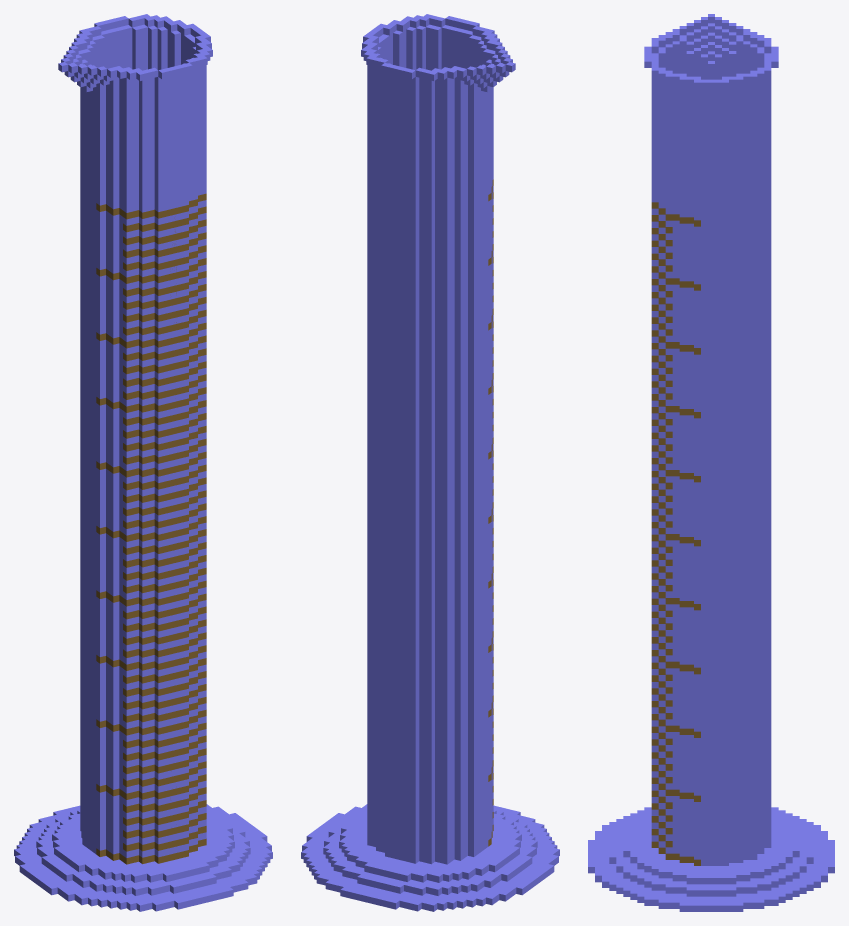
The model's file is Measuring cylinder1-1-1.fbx.
3 renders of one model, left to right at view 1: azimuth 30°, elevation 25°; view 2: azimuth 150°, elevation 25°; view 3: azimuth 270°, elevation 25°, orthographic.
Parts seen in each view (by area): view 1: Measuring cylinder1-1-1.000, Measuring cylinder1-1-1.001; view 2: Measuring cylinder1-1-1.000, Measuring cylinder1-1-1.001; view 3: Measuring cylinder1-1-1.000, Measuring cylinder1-1-1.001.
Boxes of the visible parts, x1,y1,x2,y2 form: Measuring cylinder1-1-1.000: (14, 14, 272, 911); Measuring cylinder1-1-1.001: (96, 193, 206, 864); Measuring cylinder1-1-1.000: (301, 14, 559, 911); Measuring cylinder1-1-1.001: (488, 179, 493, 846); Measuring cylinder1-1-1.000: (588, 14, 834, 911); Measuring cylinder1-1-1.001: (651, 202, 700, 865).
Bounding box in the file's own units: 3.5 × 12.6 × 3.5.
